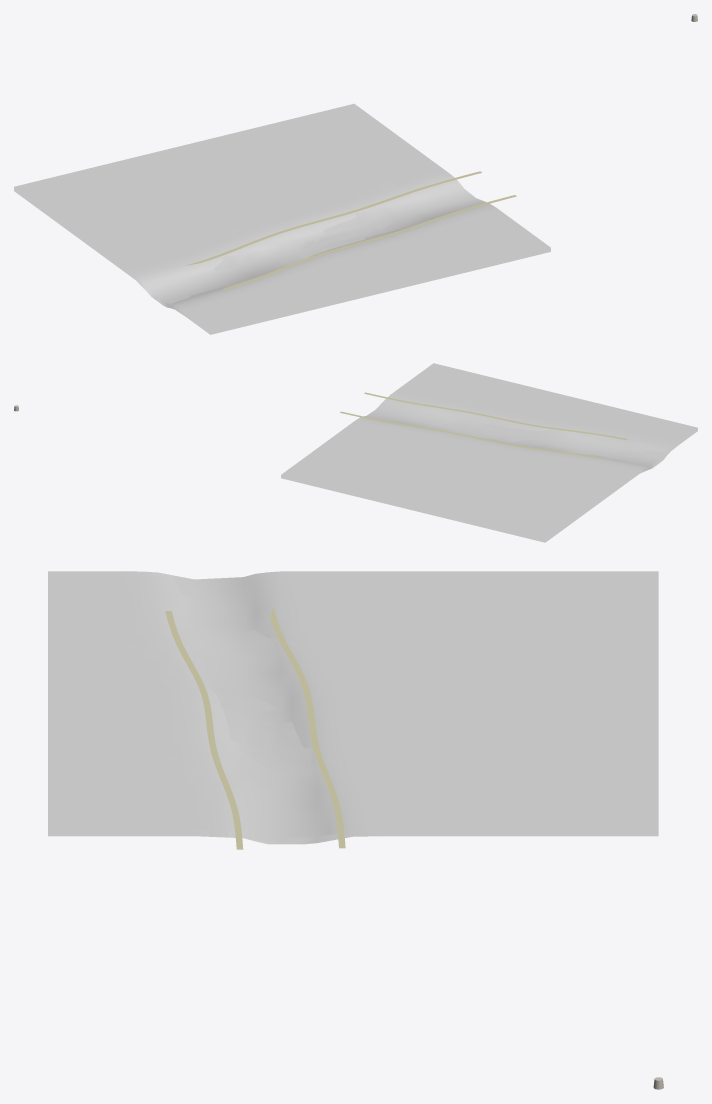
Rendered from cell_-2_0.glb.
The picture shows the model from 3 angles, top to bottom: view 1: azimuth 30°, elevation 25°; view 2: azimuth 150°, elevation 25°; view 3: azimuth 270°, elevation 25°; orthographic projection. The views are drawn at different scales.
Visible parts, largest first — view 1: R3FM_470_cell_-2_0, R3FM_471_cell_-2_0, R3FM_9478_cell_-2_0; view 2: R3FM_470_cell_-2_0, R3FM_471_cell_-2_0, R3FM_9478_cell_-2_0; view 3: R3FM_470_cell_-2_0, R3FM_471_cell_-2_0, R3FM_9478_cell_-2_0.
Part boxes in pixels (left/top/right/bottom): R3FM_470_cell_-2_0: left=14, top=104, right=550, bottom=334; R3FM_471_cell_-2_0: left=14, top=104, right=550, bottom=334; R3FM_9478_cell_-2_0: left=185, top=171, right=516, bottom=289; R3FM_470_cell_-2_0: left=281, top=363, right=697, bottom=542; R3FM_471_cell_-2_0: left=281, top=363, right=696, bottom=541; R3FM_9478_cell_-2_0: left=340, top=392, right=627, bottom=459; R3FM_470_cell_-2_0: left=48, top=571, right=658, bottom=844; R3FM_471_cell_-2_0: left=48, top=571, right=658, bottom=844; R3FM_9478_cell_-2_0: left=165, top=606, right=345, bottom=849.
Bounding box in the file's own units: 131 × 2.75 × 65.55.
